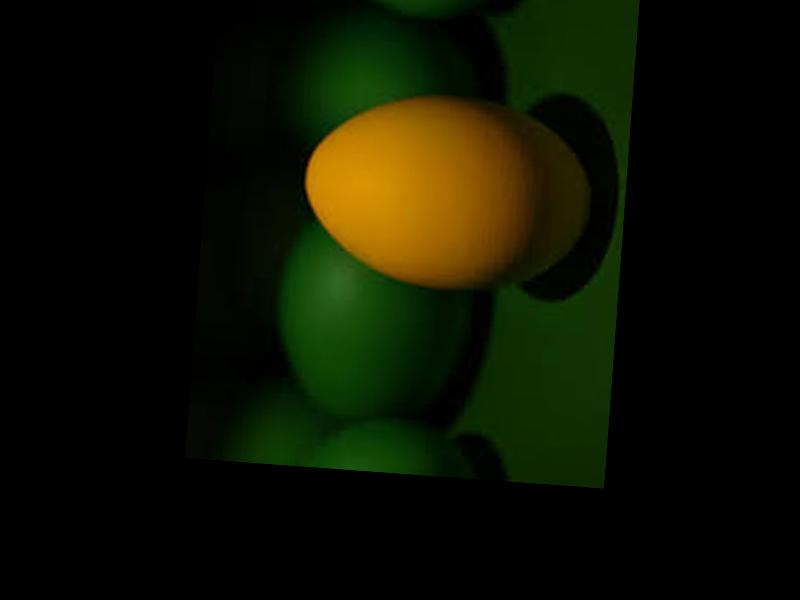Eggs: (299, 85, 597, 299)
